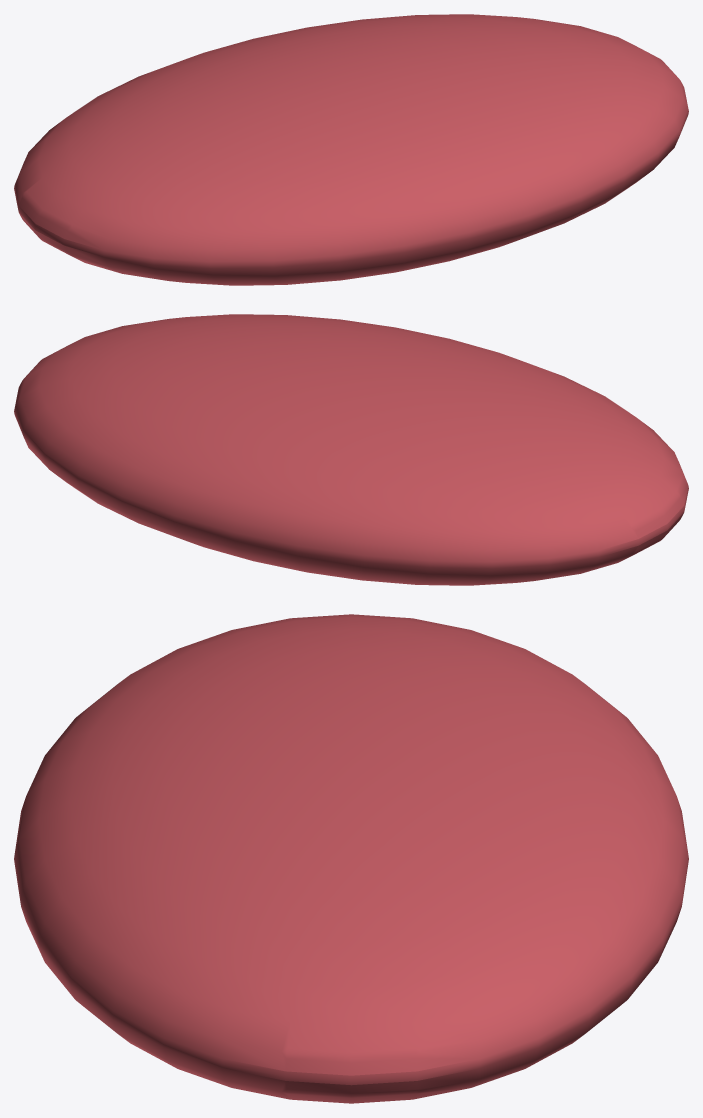
The model's file is SM_FOD_RAW_MEAT.fbx.
3 renders of one model, top to bottom at view 1: azimuth 30°, elevation 25°; view 2: azimuth 150°, elevation 25°; view 3: azimuth 270°, elevation 25°, orthographic. The views are drawn at different scales.
Visible parts, largest first — view 1: SM_FOD_RAW_MEAT; view 2: SM_FOD_RAW_MEAT; view 3: SM_FOD_RAW_MEAT.
Boxes of the visible parts, x1,y1,x2,y2 form: SM_FOD_RAW_MEAT: (14, 14, 688, 285); SM_FOD_RAW_MEAT: (14, 314, 688, 585); SM_FOD_RAW_MEAT: (14, 614, 688, 1103).
Size of what is drawn, in the model's own units: 0.2792 by 0.06 by 0.1795.
